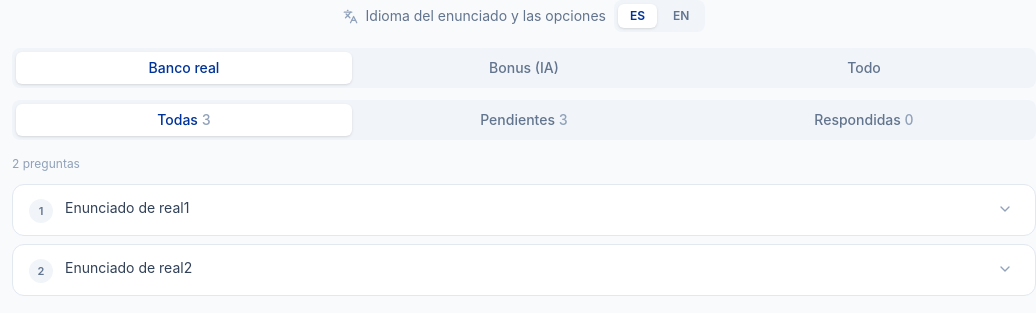
Scenario: filtro de procedencia › cambiar a bonus muestra sólo las generadas
The image size is (1036, 313).
Click the button "Bonus (IA)" at (524, 68), box left=356, top=52, right=692, bottom=84
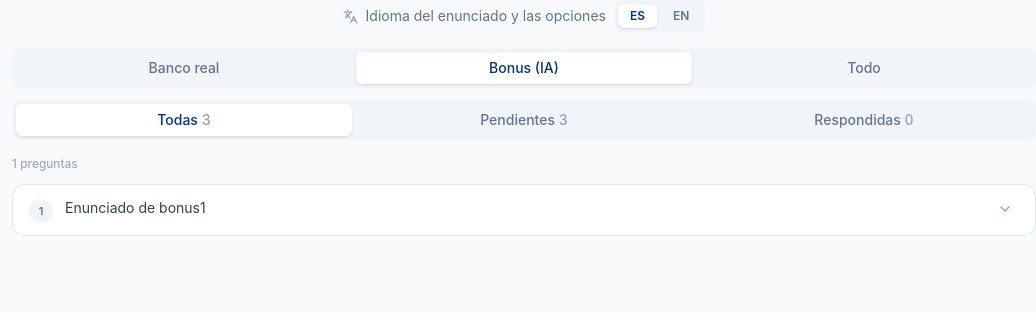
Expected: the text "Enunciado de bonus1" is shown, left=65, top=199, right=206, bottom=216
Expected: the text "Enunciado de real1" is gone
